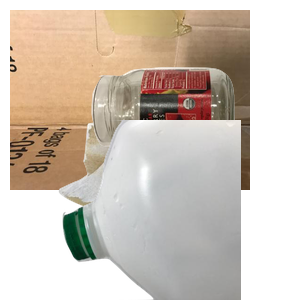cardboard: (10, 10, 250, 190)
glass: (89, 65, 300, 212)
plastic: (60, 120, 300, 300)
trash: (56, 120, 247, 300)
